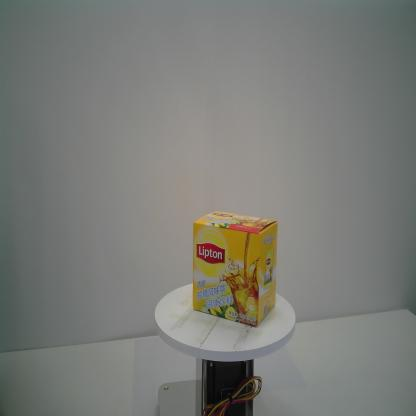Instant Drink: (192, 210, 278, 329)
